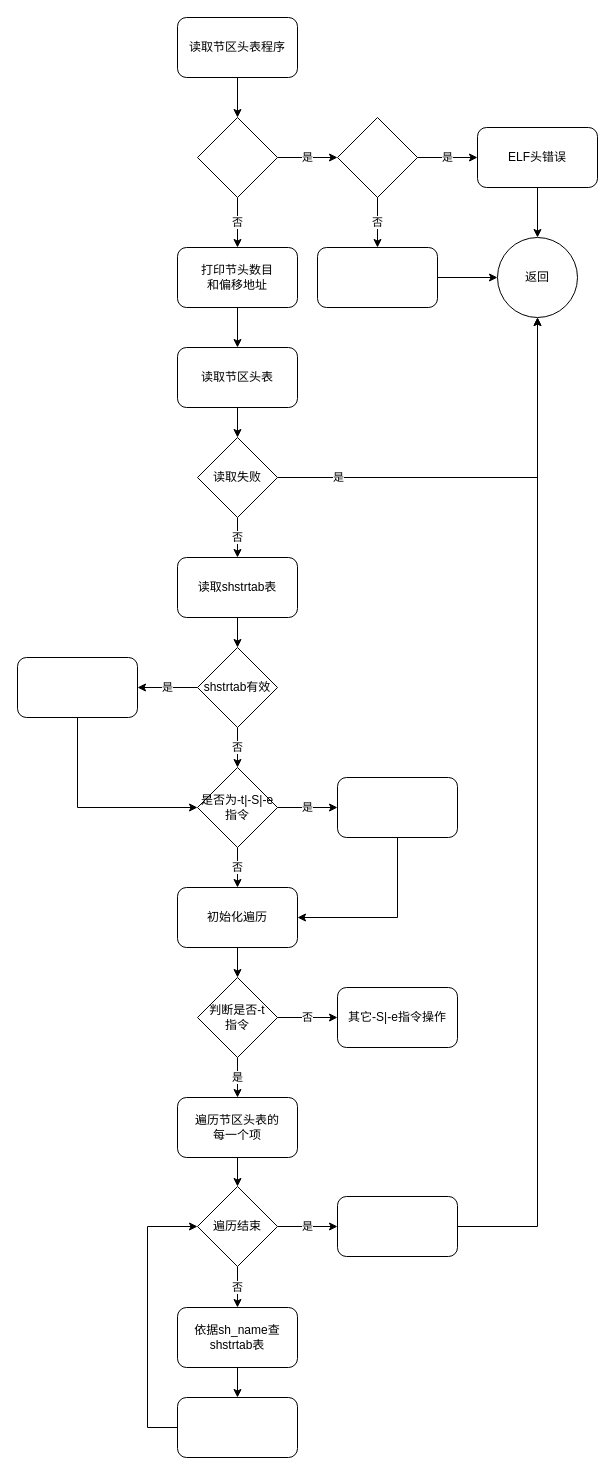
Some shapes in this 615 by 1475 pixel diagram are drawn without their labels. Each missing label, with the box of its shape:
其它一些初始化 例如目标节区名转索引、匹配.unwind区等: (336, 1196, 458, 1256)
判断节区头表项目数为0: (196, 116, 278, 198)
打印提示信息: (336, 776, 458, 838)
打印输出节头表项 结构体的信息: (176, 1396, 298, 1458)
无节区: (316, 246, 438, 308)
节区头表地址不存在: (336, 116, 418, 198)
获取shstrtab偏移地址: (16, 656, 138, 718)
